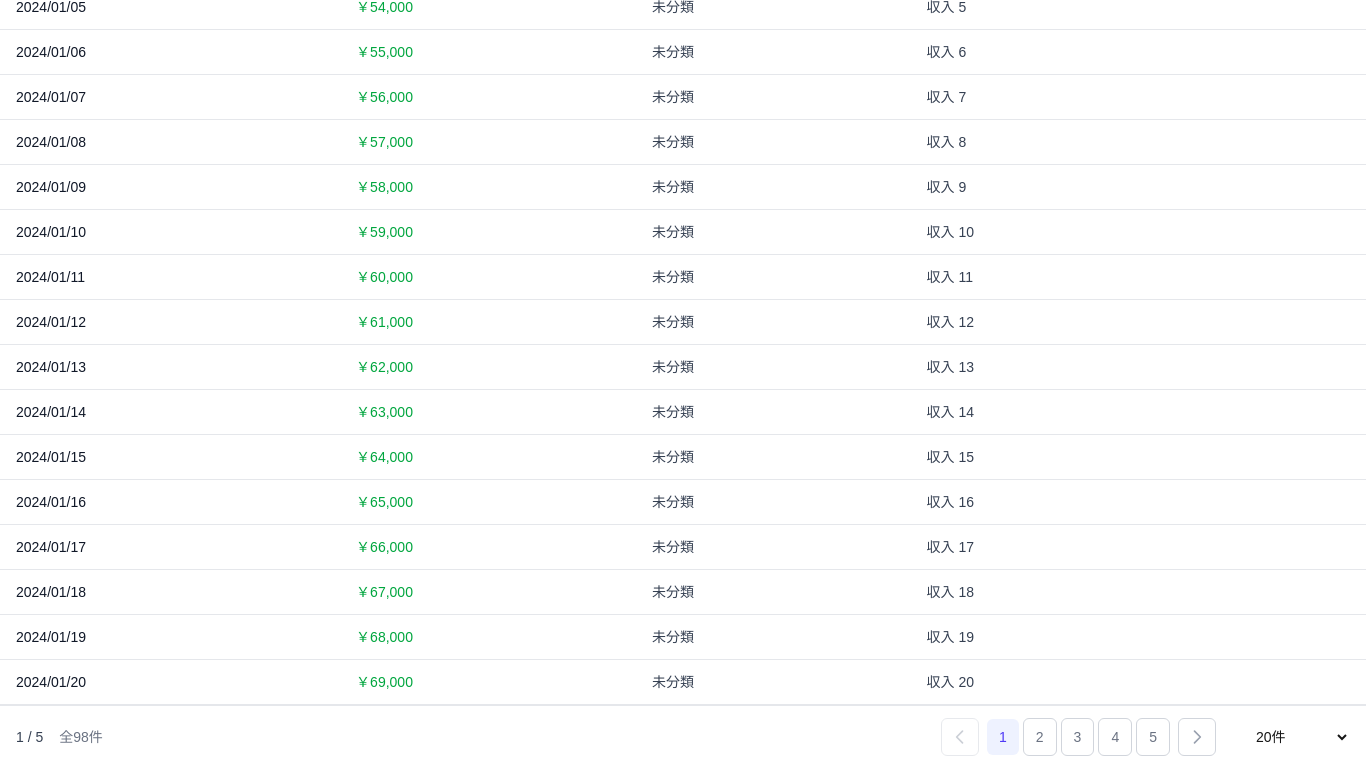
it: IncomeList with Pagination › ページネーション統合 › 表示件数を変更すると適切にデータが再取得される
(page scrolled)
Step 1. Select "50件" in the dropdown named "表示件数" → point(1295, 737), box [1240, 722, 1350, 752]
(page scrolled)
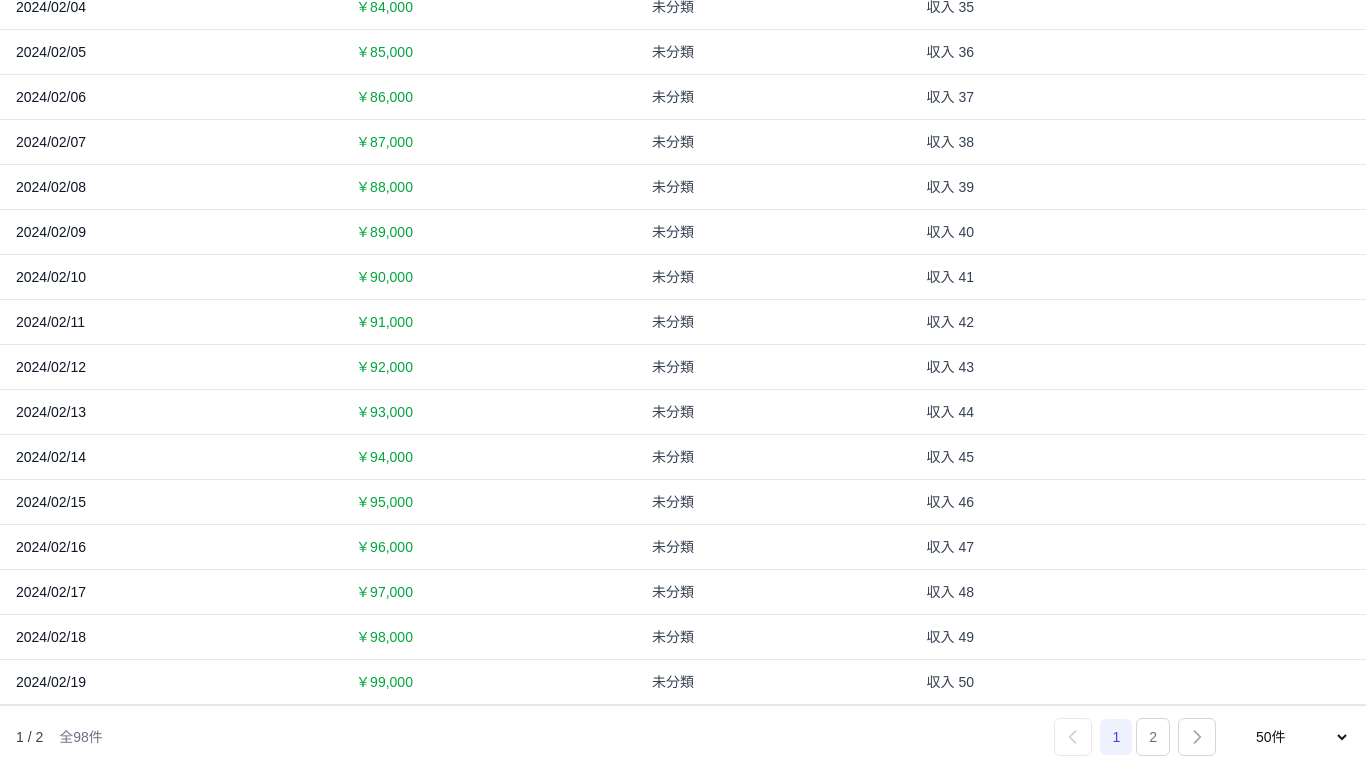
expect the text "収入 50" is shown: met, box [927, 674, 974, 690]
expect the text "1 / 2" is shown: met, box [16, 727, 43, 747]
